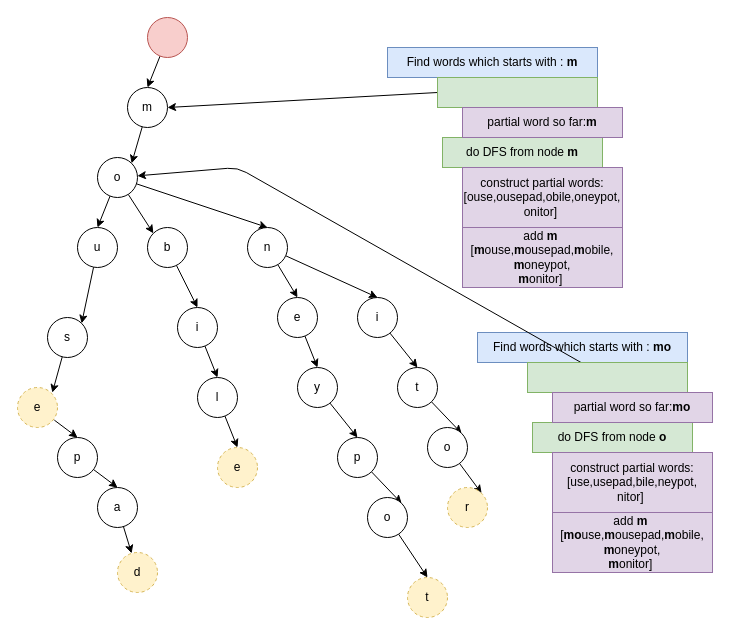
This 730x635 diagram has some shape labels left out. Each missing label, with the box of its shape:
go to node m from the root: (436, 76, 598, 108)
go to node o from the root: (526, 362, 688, 392)
root: (146, 16, 188, 58)
